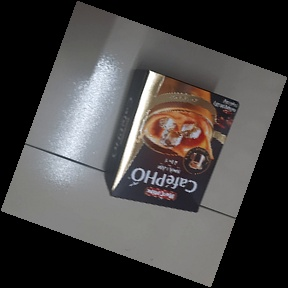CF pho: (105, 70, 239, 212)
